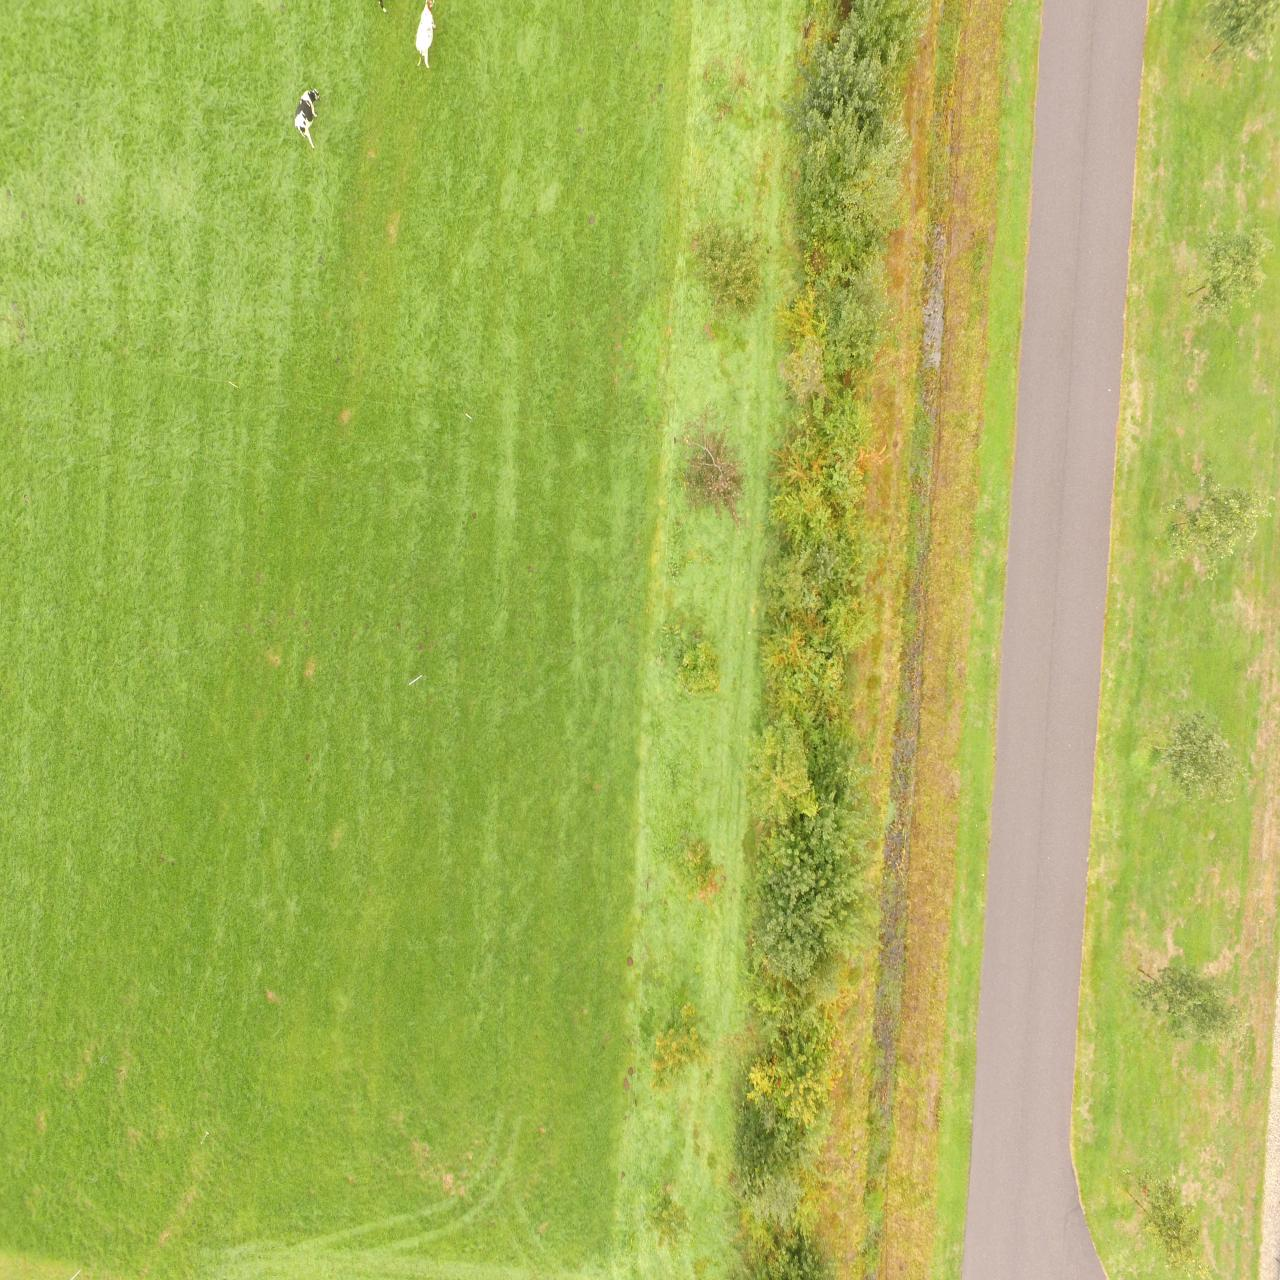cow: (291, 83, 322, 154), (411, 5, 434, 82)
